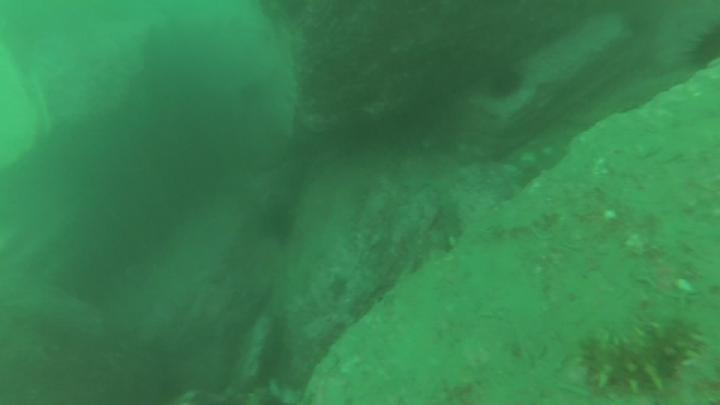echinus: (684, 26, 720, 71), (486, 67, 525, 100)
holothurian: (582, 314, 700, 394)
